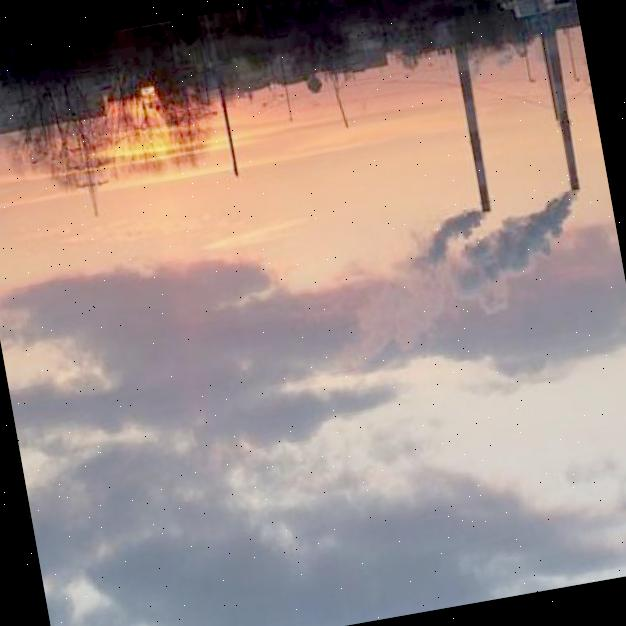smoke: (303, 171, 621, 401)
